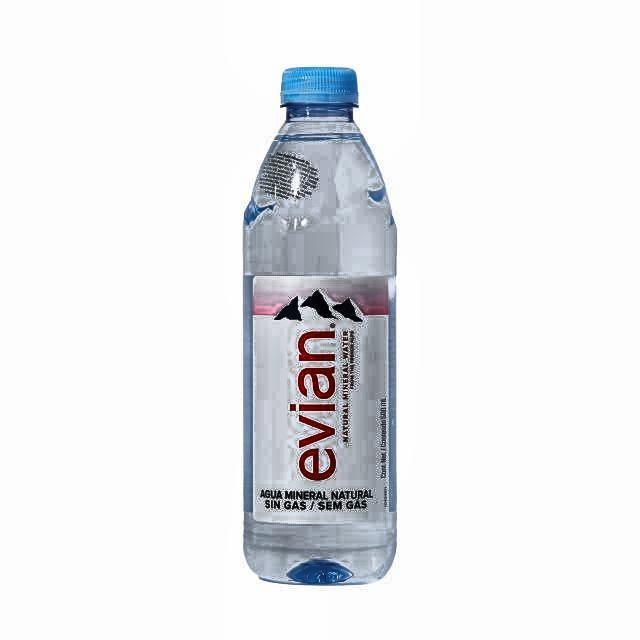plastic: (240, 65, 400, 589)
